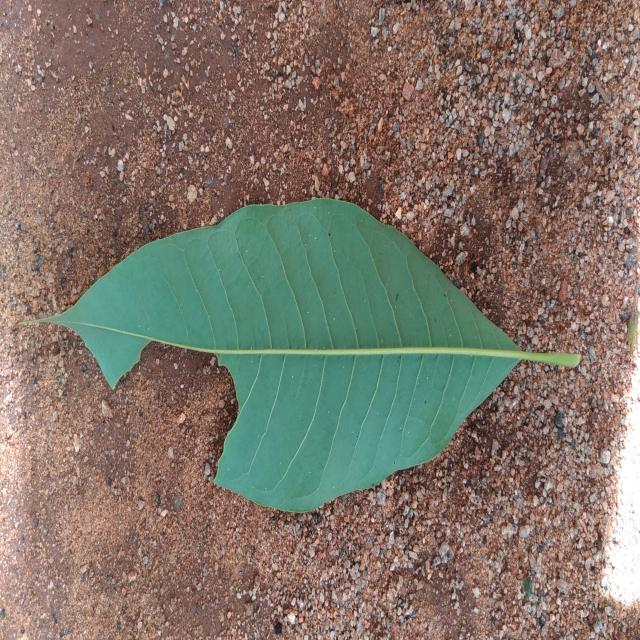coffee: (50, 200, 522, 511)
